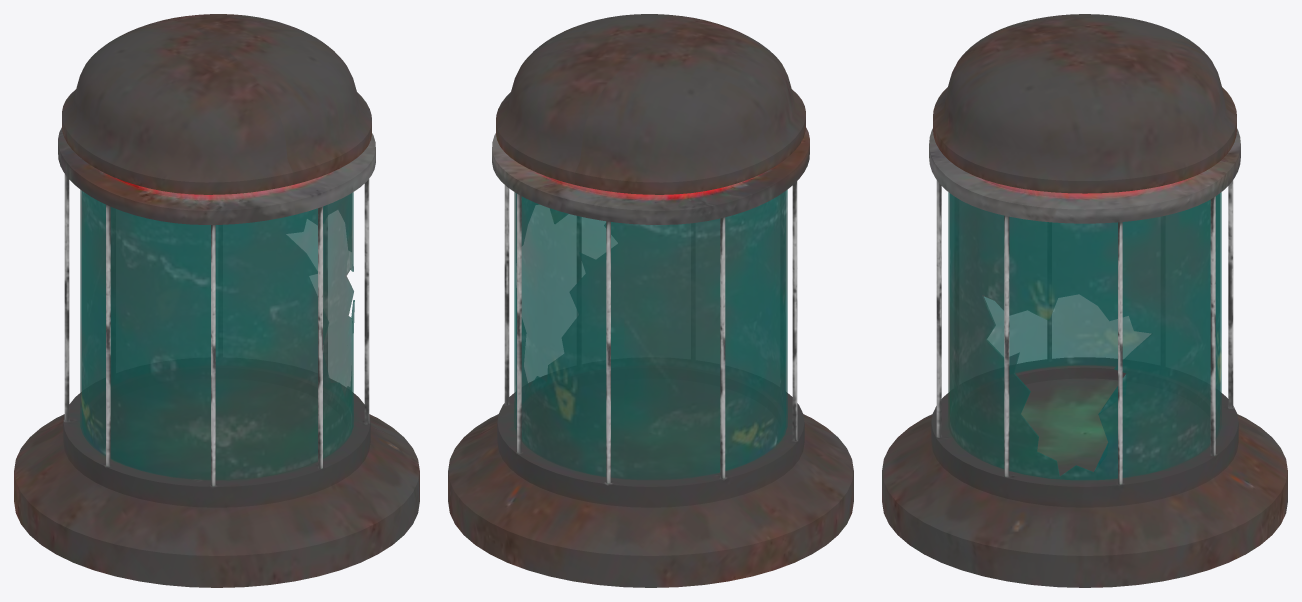
Rendered from cryo-capsule.glb.
The picture shows the model from 3 angles, left to right: view 1: azimuth 30°, elevation 25°; view 2: azimuth 150°, elevation 25°; view 3: azimuth 270°, elevation 25°; orthographic projection.
Parts seen in each view (by area): view 1: Kryo_Kabsel_LP; view 2: Kryo_Kabsel_LP; view 3: Kryo_Kabsel_LP.
Boxes of the visible parts, x1,y1,x2,y2 form: Kryo_Kabsel_LP: (14, 14, 419, 587); Kryo_Kabsel_LP: (448, 14, 853, 587); Kryo_Kabsel_LP: (882, 14, 1287, 587).
Bounding box in the file's own units: 1.76 × 2.2 × 1.76.
Materials: 2 (2 with a texture image).
